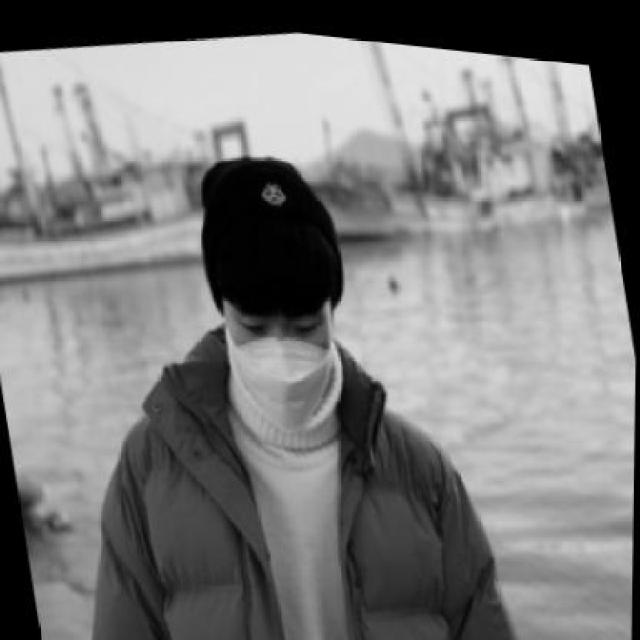hat: (184, 133, 350, 318)
